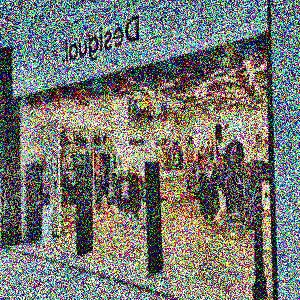desigual: (82, 35, 225, 43)
